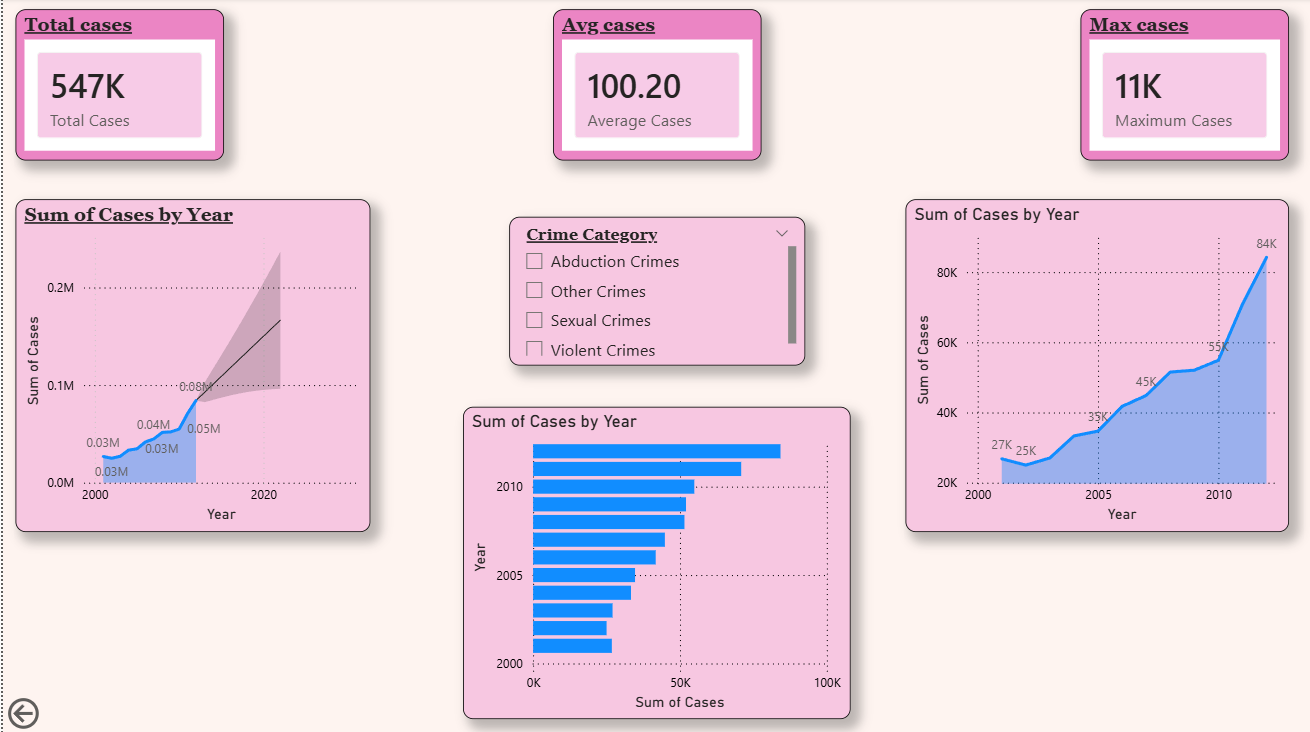

Layout of this report page (visuals, bound fields, positions):
{"tool":"powerbi","page":{"name":"Trend Analysis","canvas":[1280,720],"ordinal":3},"visuals":[{"type":"cardVisual","title":"Total cases","fields":{"Data":["in.Total Cases"]},"box":[12.2,11,204.2,148],"z":0},{"type":"cardVisual","title":"Max cases","fields":{"Data":["in.Maximum Cases"]},"box":[1054.1,11,204.2,148],"z":1000},{"type":"cardVisual","title":"Avg cases","fields":{"Data":["in.Average Cases"]},"box":[538,11,204.2,148],"z":2000},{"type":"lineChart","fields":{"Y":["Sum(in.Cases)"],"Category":["in.Year"]},"box":[12.2,196.9,347.3,325.3],"z":3000},{"type":"areaChart","fields":{"Category":["in.Year"],"Y":["Sum(in.Cases)"]},"box":[882.9,196.9,375.4,325.3],"z":4000},{"type":"clusteredBarChart","fields":{"Category":["in.Year"],"Y":["Sum(in.Cases)"]},"box":[450,399.9,379.1,305.7],"z":5000},{"type":"slicer","fields":{"Values":["in.Crime Category"]},"box":[495.2,214,289.8,145.5],"z":5001},{"type":"actionButton","box":[0,680,100,40],"z":5002}]}

Visuals, with their boxes in screenshot pixels (x1, y1, x2, y2), scaled from the page's 1280x720 canvas onto the 1310x732 screenshot:
"Total cases" cardVisual: rect(12, 11, 221, 162)
"Max cases" cardVisual: rect(1079, 11, 1288, 162)
"Avg cases" cardVisual: rect(551, 11, 760, 162)
lineChart - Sum(in.Cases) x in.Year: rect(12, 200, 368, 531)
areaChart - in.Year x Sum(in.Cases): rect(904, 200, 1288, 531)
clusteredBarChart - in.Year x Sum(in.Cases): rect(461, 407, 849, 717)
slicer - in.Crime Category: rect(507, 218, 803, 365)
actionButton: rect(0, 691, 102, 731)
